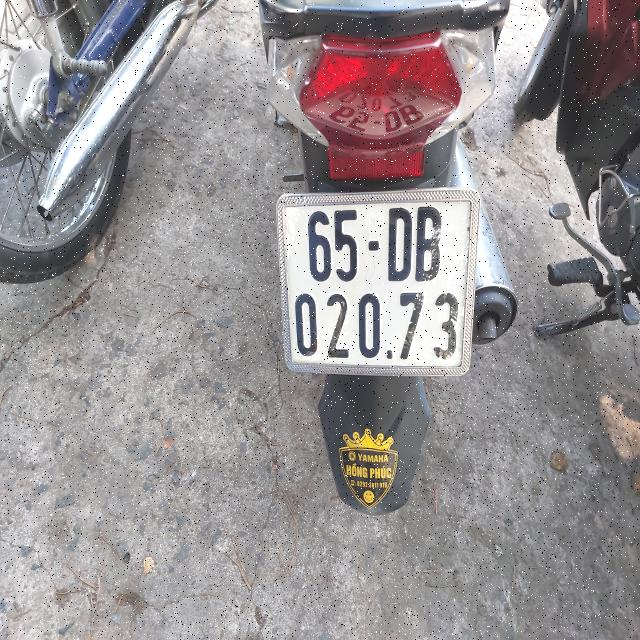0: (360, 290, 386, 359), (296, 290, 320, 361)
2: (326, 292, 351, 358)
3: (431, 289, 461, 362)
5: (334, 208, 364, 286)
6: (304, 208, 335, 286)
7: (395, 291, 426, 361)
B: (413, 201, 445, 284)
D: (387, 201, 415, 286)
